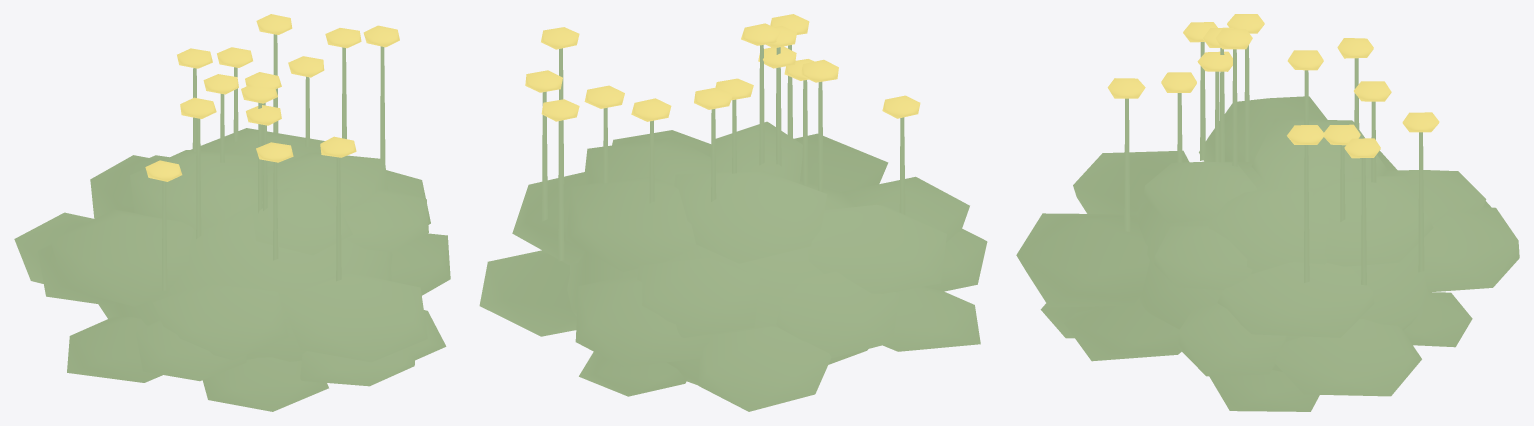
The model's file is Blender_Brittlebush_1.glb.
The picture shows the model from 3 angles, left to right: view 1: azimuth 30°, elevation 25°; view 2: azimuth 150°, elevation 25°; view 3: azimuth 270°, elevation 25°; orthographic projection. The views are drawn at different scales.
Parts seen in each view (by area): view 1: Blender_Brittlebush_1; view 2: Blender_Brittlebush_1; view 3: Blender_Brittlebush_1.
Boxes of the visible parts, x1,y1,x2,y2 form: Blender_Brittlebush_1: [14, 14, 450, 411]; Blender_Brittlebush_1: [479, 14, 987, 411]; Blender_Brittlebush_1: [1016, 14, 1519, 411].
Bounding box in the file's own units: 1 × 0.7141 × 1.02.
